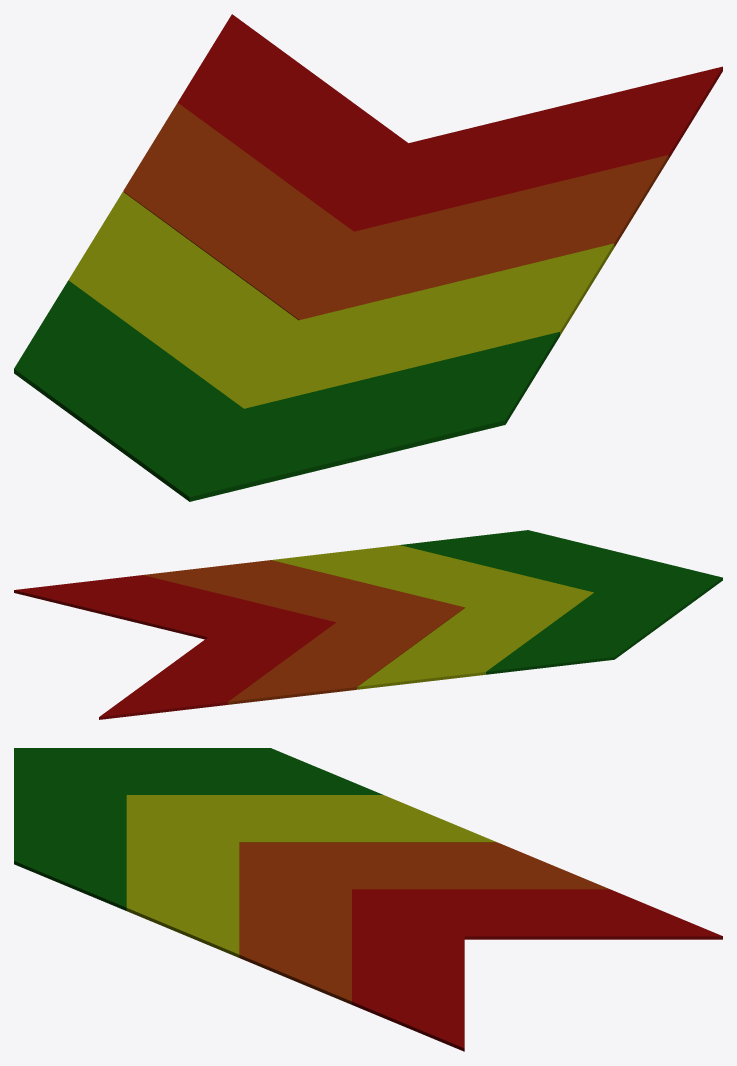
File: BoostPlate.FBX
The picture shows the model from 3 angles, top to bottom: view 1: azimuth 30°, elevation 25°; view 2: azimuth 150°, elevation 25°; view 3: azimuth 270°, elevation 25°; orthographic projection. The views are drawn at different scales.
Visible parts, largest first — view 1: Arrow4, Arrow2, Arrow1, Arrow3; view 2: Arrow1, Arrow4, Arrow2, Arrow3; view 3: Arrow1, Arrow3, Arrow2, Arrow4.
Part boxes in pixels (bbox=[...]): Arrow4: bbox=[14, 280, 559, 501]; Arrow2: bbox=[123, 102, 668, 320]; Arrow1: bbox=[178, 14, 722, 231]; Arrow3: bbox=[68, 192, 614, 408]; Arrow1: bbox=[14, 575, 335, 719]; Arrow4: bbox=[400, 530, 722, 674]; Arrow2: bbox=[143, 560, 465, 704]; Arrow3: bbox=[272, 545, 593, 689]; Arrow1: bbox=[352, 889, 722, 1051]; Arrow3: bbox=[126, 795, 496, 957]; Arrow2: bbox=[239, 842, 609, 1004]; Arrow4: bbox=[14, 748, 382, 910].
Bounding box in the file's own units: 188 × 1 × 187.
